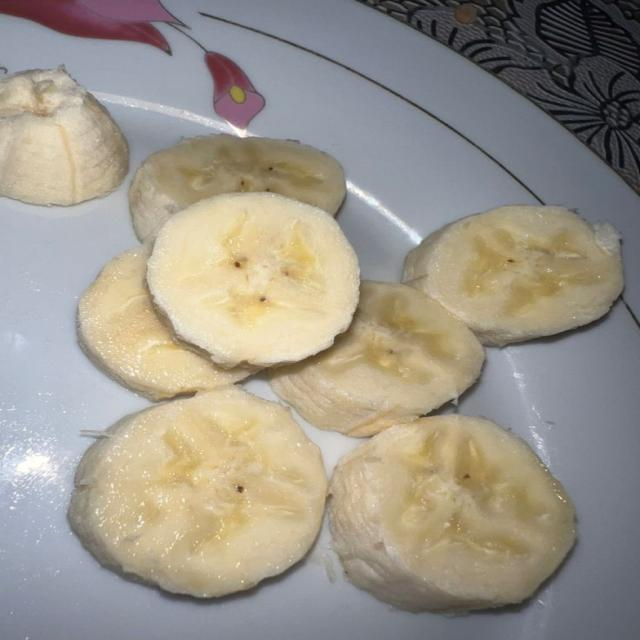banana slice: (69, 387, 326, 597), (330, 415, 574, 612), (147, 193, 359, 366), (271, 281, 484, 436), (404, 205, 622, 345), (78, 246, 253, 400), (130, 134, 346, 241), (0, 68, 128, 205)
